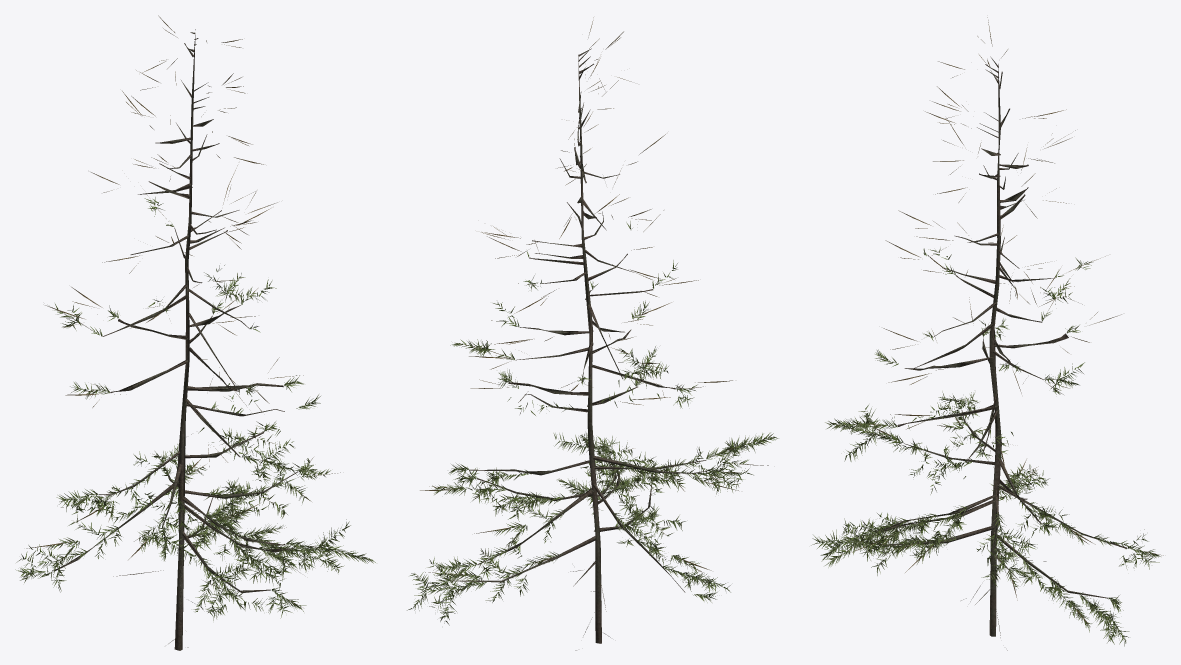
Rendered from fir-sapling.glb.
3 views of the same model, side by side, from view 1: azimuth 30°, elevation 25°; view 2: azimuth 150°, elevation 25°; view 3: azimuth 270°, elevation 25° (orthographic). The views are drawn at different scales.
Visible parts, largest first — view 1: fir-sapling; view 2: fir-sapling; view 3: fir-sapling.
Boxes of the visible parts, box(x1,y1,x2,y2) form: fir-sapling: box(15, 15, 375, 650); fir-sapling: box(407, 17, 778, 650); fir-sapling: box(811, 17, 1163, 650).
Bounding box in the file's own units: 0.9174 × 1.73 × 0.9102.
3 materials, 3 textured.
